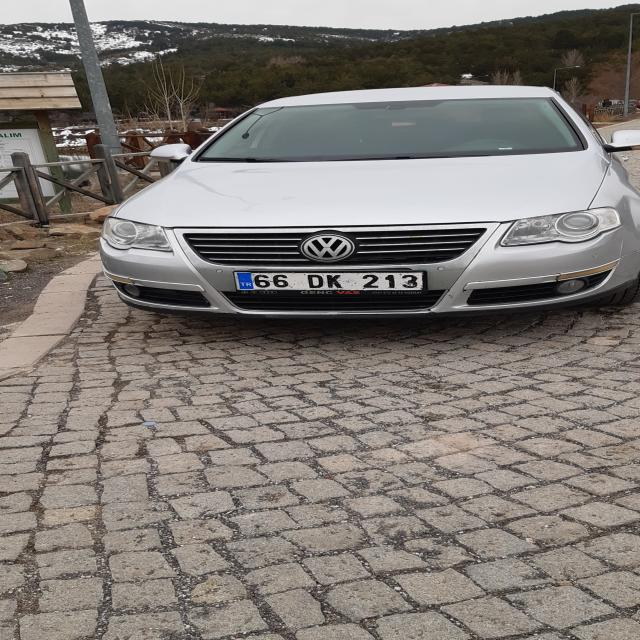plate: (234, 272, 423, 290)
